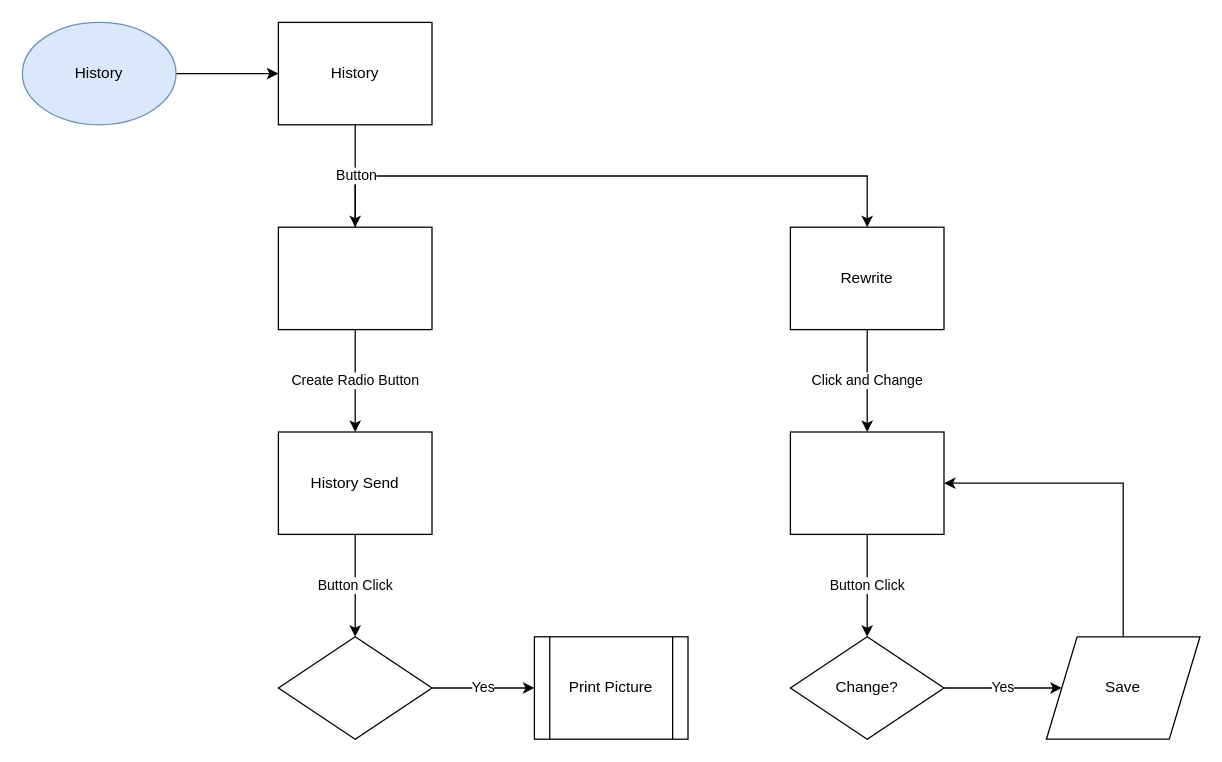
Some shapes in this 1222 by 762 pixel diagram are drawn without their labels. The shapes that lost their labels are listed below. From the top down, each one's centre as x and y in pixels, then its label:
(354,278): Send out
(866,482): History Rewrite
(354,687): At least one radio
